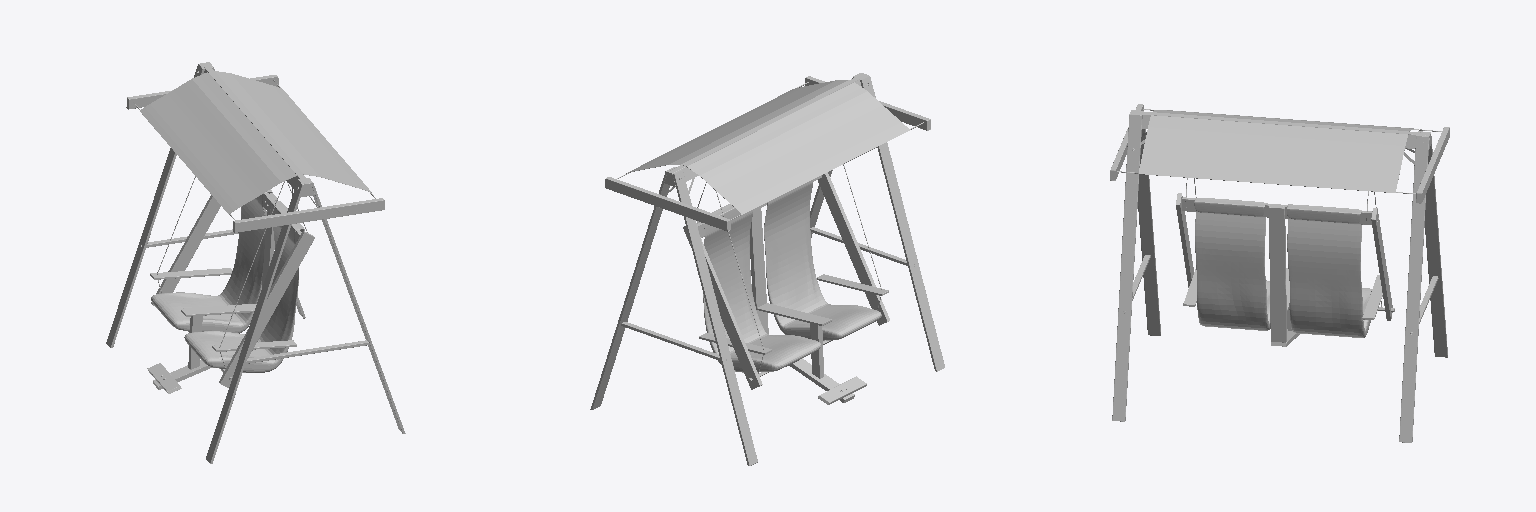
The model's file is swing.obj.
3 renders of one model, left to right at view 1: azimuth 30°, elevation 25°; view 2: azimuth 150°, elevation 25°; view 3: azimuth 270°, elevation 25°, orthographic.
Visible parts, largest first — view 1: arch22_020_20, arch22_020_53, arch22_020_38, arch22_020_54, arch22_020_04, arch22_020_44, arch22_020_17, arch22_020_39, arch22_020_40; view 2: arch22_020_20, arch22_020_54, arch22_020_53, arch22_020_38, arch22_020_04, arch22_020_39, arch22_020_44, arch22_020_17, arch22_020_05, arch22_020_40, arch22_020_06, arch22_020_10 (+1 smaller); view 3: arch22_020_20, arch22_020_53, arch22_020_54, arch22_020_39, arch22_020_38, arch22_020_05, arch22_020_04, arch22_020_44, arch22_020_17, arch22_020_03, arch22_020_40.
Boxes of the visible parts, box(x1,y1,x2,y2) form: arch22_020_20: box(140, 71, 371, 213); arch22_020_53: box(151, 189, 272, 333); arch22_020_38: box(106, 63, 304, 463); arch22_020_54: box(184, 201, 304, 372); arch22_020_04: box(151, 195, 314, 387); arch22_020_44: box(126, 75, 384, 232); arch22_020_17: box(150, 268, 296, 351); arch22_020_39: box(207, 62, 405, 433); arch22_020_40: box(146, 229, 368, 363); arch22_020_20: box(626, 80, 909, 214); arch22_020_54: box(764, 180, 881, 340); arch22_020_53: box(697, 204, 820, 372); arch22_020_38: box(673, 75, 944, 465); arch22_020_04: box(683, 172, 889, 389); arch22_020_39: box(590, 73, 862, 409); arch22_020_44: box(605, 76, 930, 231); arch22_020_17: box(699, 274, 888, 354); arch22_020_05: box(750, 208, 768, 333); arch22_020_40: box(621, 227, 907, 360); arch22_020_06: box(789, 358, 854, 402); arch22_020_10: box(818, 376, 866, 404); arch22_020_20: box(1139, 110, 1421, 192); arch22_020_53: box(1287, 204, 1371, 337); arch22_020_54: box(1194, 198, 1269, 330); arch22_020_39: box(1112, 114, 1429, 442); arch22_020_38: box(1131, 110, 1447, 357); arch22_020_05: box(1269, 206, 1286, 342); arch22_020_04: box(1176, 193, 1392, 320); arch22_020_44: box(1110, 104, 1449, 203); arch22_020_17: box(1183, 268, 1388, 319); arch22_020_03: box(1182, 197, 1371, 224); arch22_020_40: box(1132, 255, 1438, 323).
Bounding box in the file's own units: 70.01 × 79.59 × 92.27.